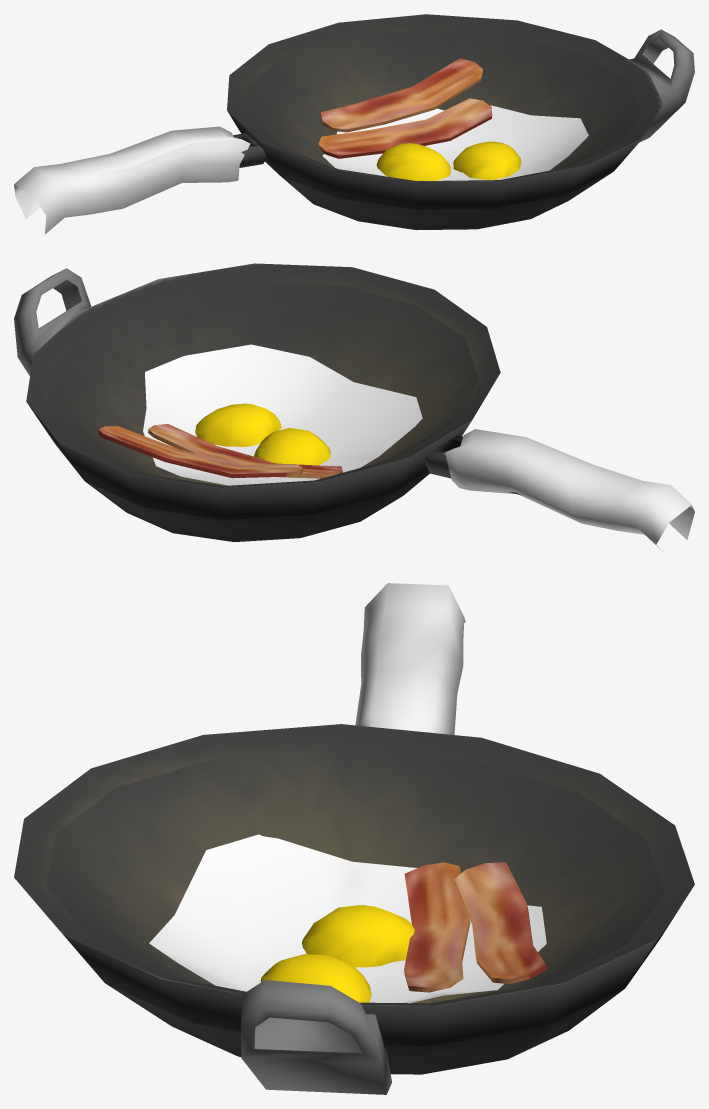
File: WokPanBaconEggs_Ground.fbx
3 renders of one model, top to bottom at view 1: azimuth 30°, elevation 25°; view 2: azimuth 150°, elevation 25°; view 3: azimuth 270°, elevation 25°, orthographic. The views are drawn at different scales.
Visible parts, largest first — view 1: FriedEgg_Bacon; view 2: FriedEgg_Bacon; view 3: FriedEgg_Bacon.
Boxes of the visible parts, x1,y1,x2,y2 form: FriedEgg_Bacon: [14, 14, 694, 234]; FriedEgg_Bacon: [14, 263, 694, 553]; FriedEgg_Bacon: [14, 583, 694, 1094].
Bounding box in the file's own units: 78.3 × 13.08 × 49.03.
